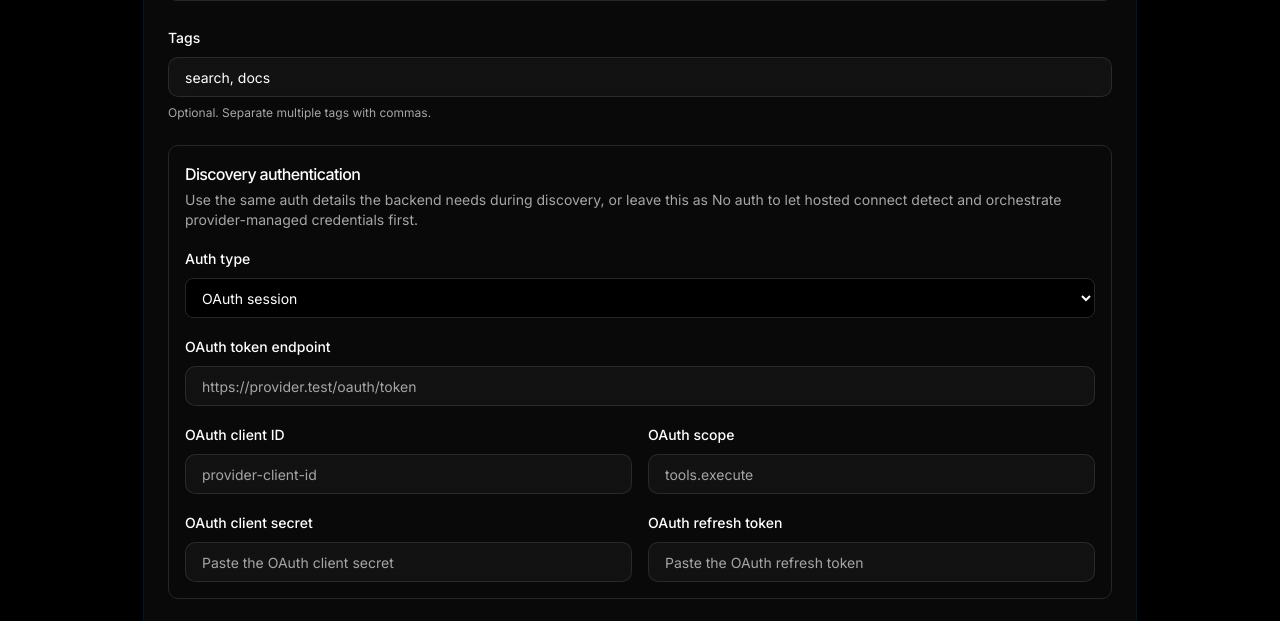
Test case: RegisterServer hosted auth branch › strips sensitive auth fields from legacy drafts during restore
The image size is (1280, 621).
(page scrolled)
Expected: the field showing "search, docs" is shown, [168, 57, 1112, 97]
Expected: the field labelled "OAuth token endpoint" is empty, [185, 366, 1095, 406]
Select "Bearer token" in the dropdown labelled "Auth type" at (640, 298), box [185, 278, 1095, 318]
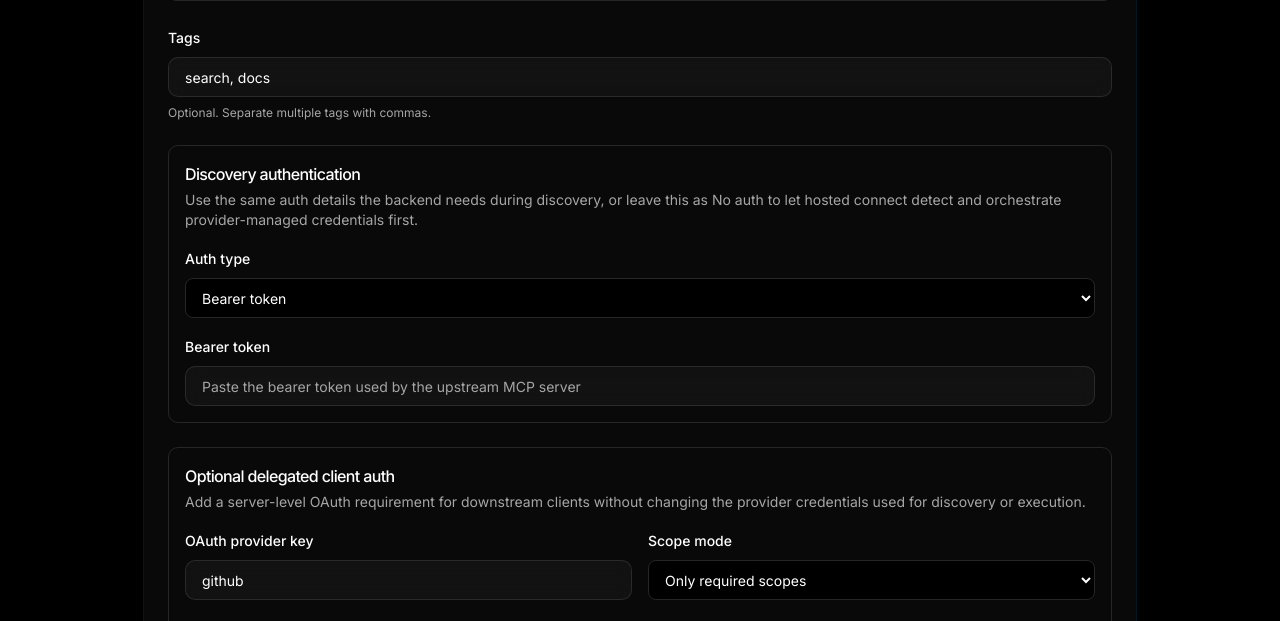
Now the password field labelled "Bearer token" is empty, box [185, 366, 1095, 406]
Select "API key header" in the dropdown labelled "Auth type" at (640, 298), box [185, 278, 1095, 318]
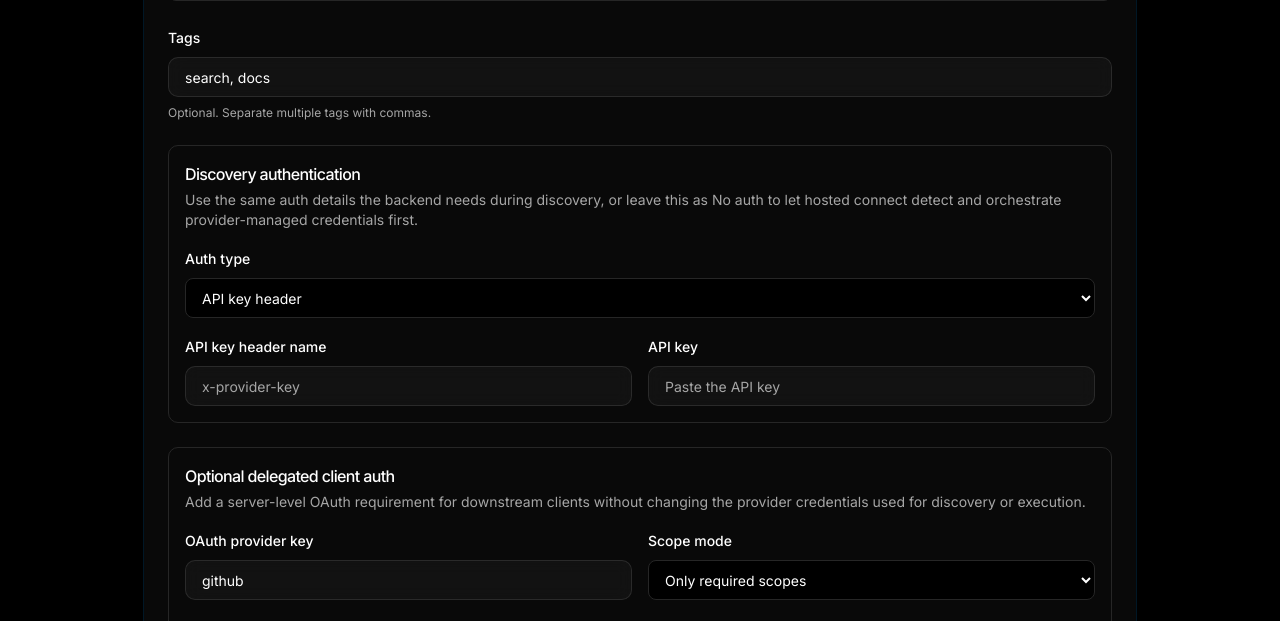
Now the field labelled "API key header name" is empty, box [185, 366, 632, 406]
Now the password field labelled "API key" is empty, box [648, 366, 1095, 406]
Select "Custom headers" in the dropdown labelled "Auth type" at (640, 298), box [185, 278, 1095, 318]
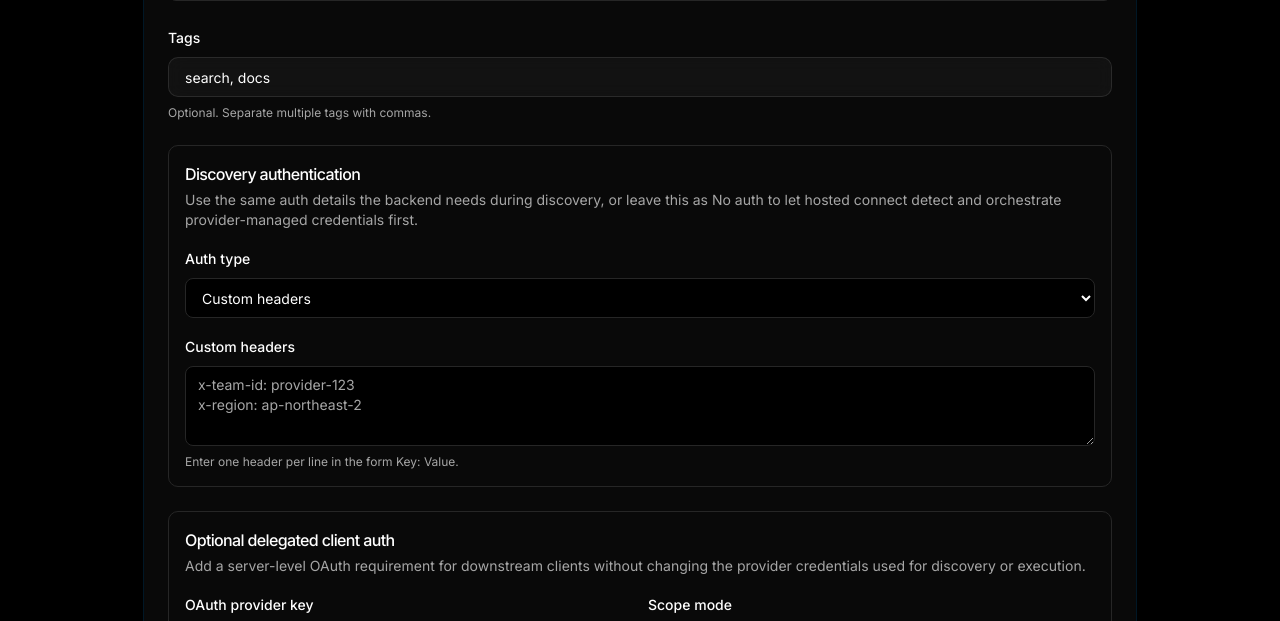
Now the text box labelled "Custom headers" is empty, box [185, 366, 1095, 446]
